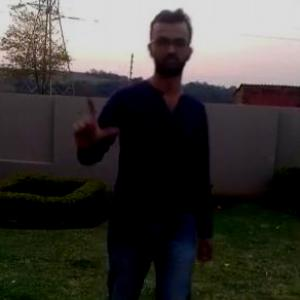land_hand: (63, 87, 120, 151)
